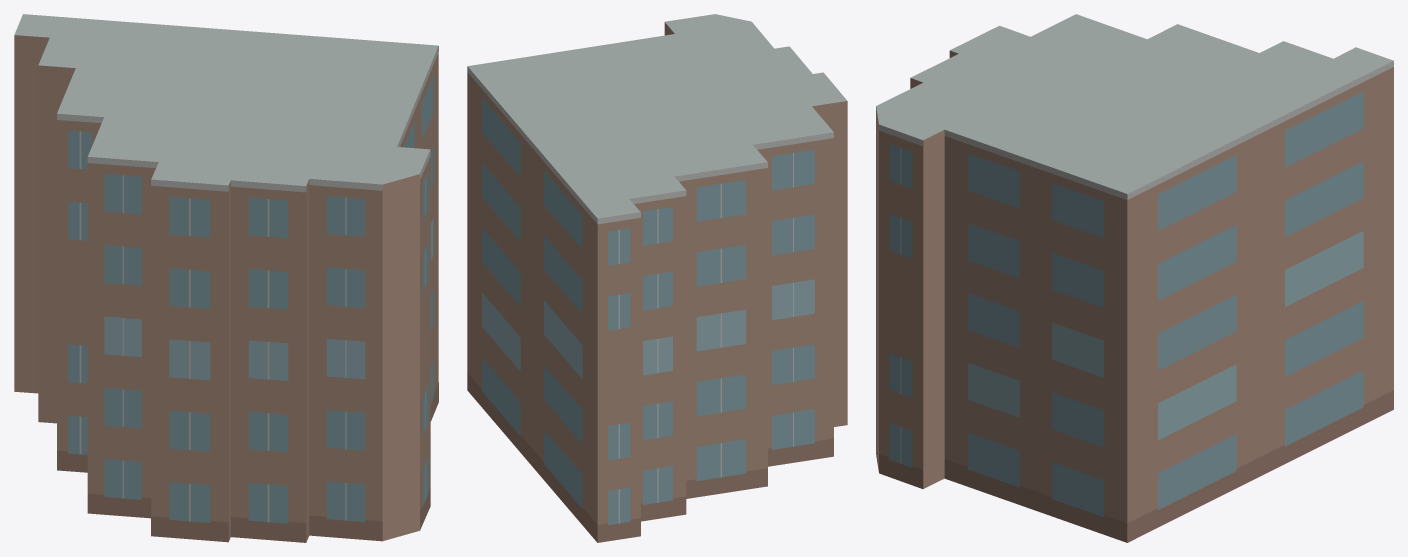
File: survey-upis-32927941.glb
3 renders of one model, left to right at view 1: azimuth 30°, elevation 25°; view 2: azimuth 150°, elevation 25°; view 3: azimuth 270°, elevation 25°, orthographic. The views are drawn at different scales.
Parts seen in each view (by area): view 1: survey-upis-32927941.tmp; view 2: survey-upis-32927941.tmp; view 3: survey-upis-32927941.tmp.
Part boxes in pixels (box(x1,y1,x2,y2)): survey-upis-32927941.tmp: box(14, 14, 438, 542); survey-upis-32927941.tmp: box(467, 14, 847, 542); survey-upis-32927941.tmp: box(876, 14, 1393, 542).
Bounding box in the file's own units: 15.39 × 13.9 × 18.7.
